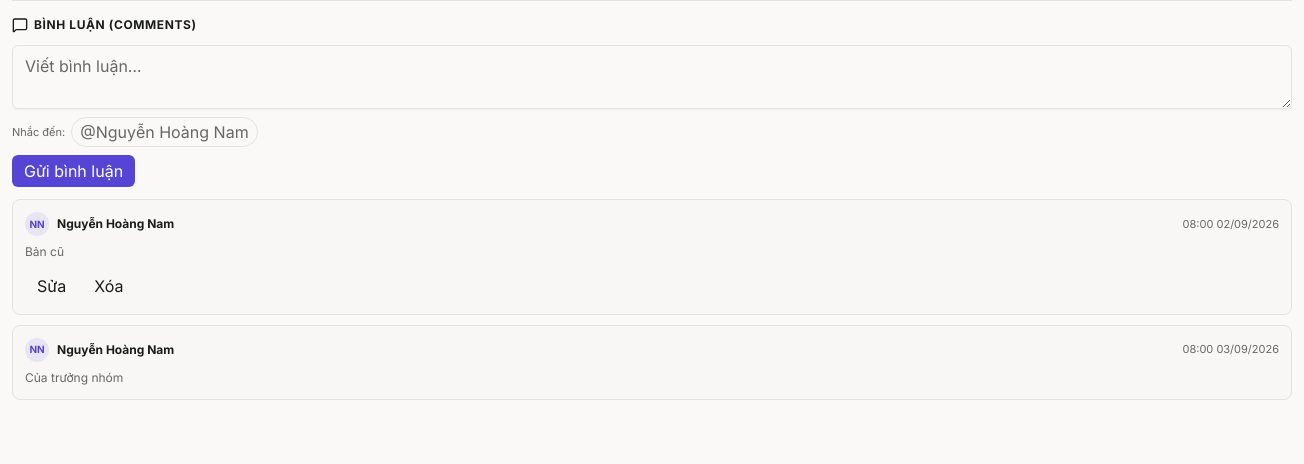
RealComments › lets an author edit their own comment but not someone else's
Expected: the text "Bản cũ" is shown, left=25, top=244, right=64, bottom=259
Expected: the number of buttons named "Xóa bình luận" is 1, left=82, top=270, right=135, bottom=302
Click the button "Sửa": (52, 286) left=25, top=270, right=78, bottom=302
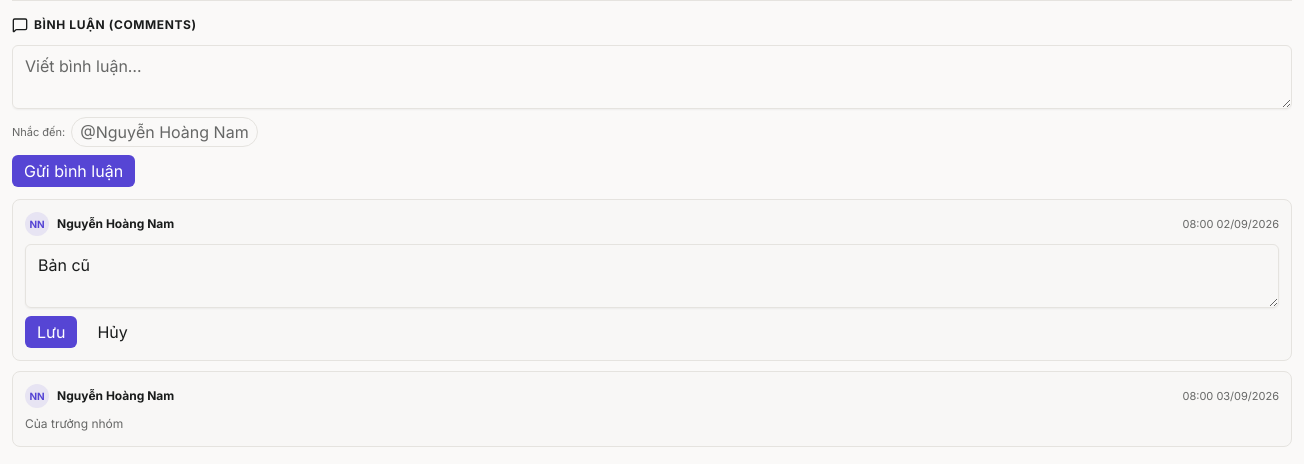
Replace the text in the text box named "Nội dung bình luận" with "Bản mới": (652, 276) left=25, top=244, right=1279, bottom=308
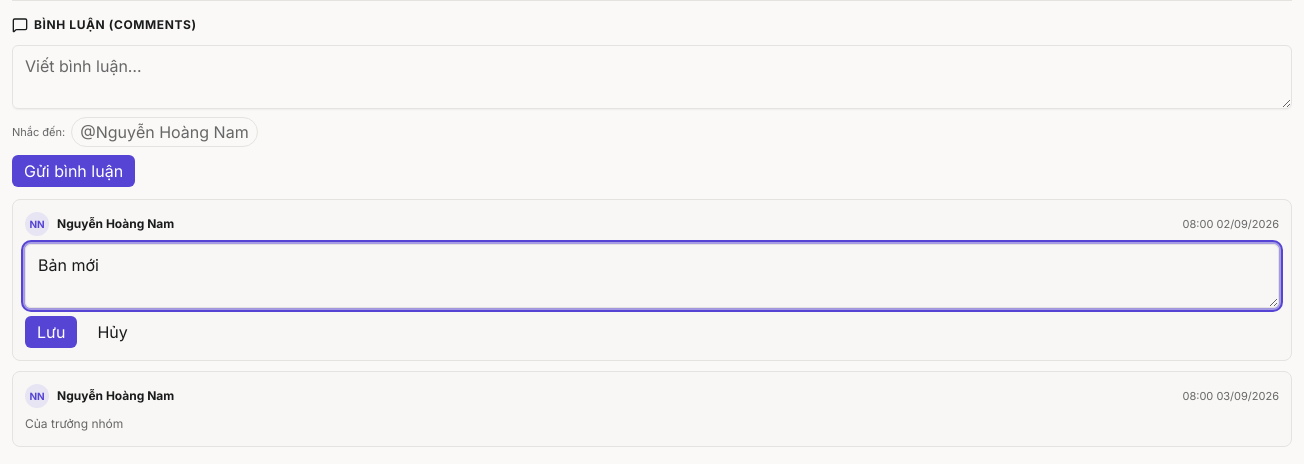
Click the button "Lưu": (51, 332) left=25, top=316, right=77, bottom=348
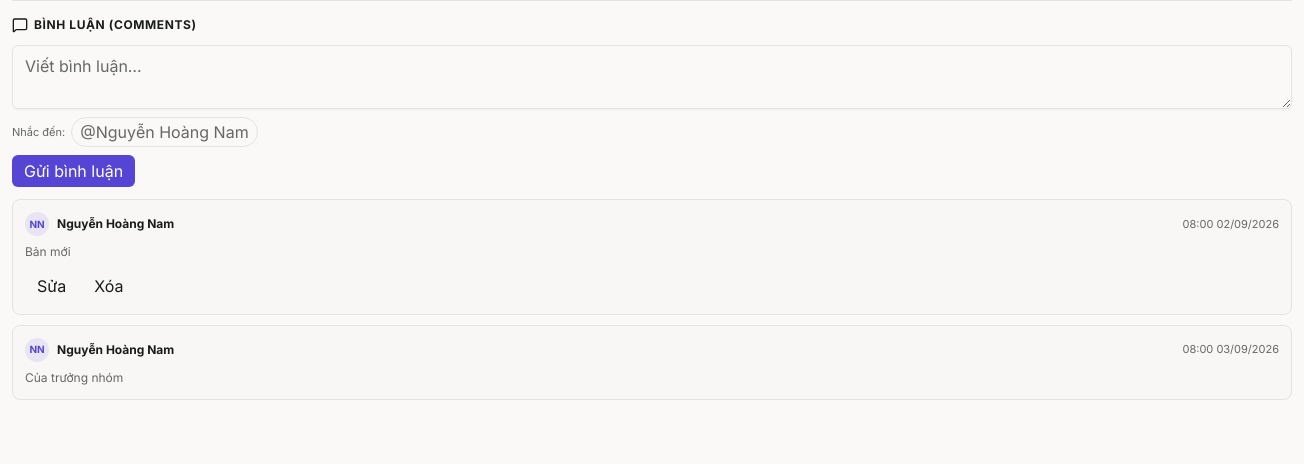
Now the text "Bản mới" is shown, box left=25, top=244, right=71, bottom=259
